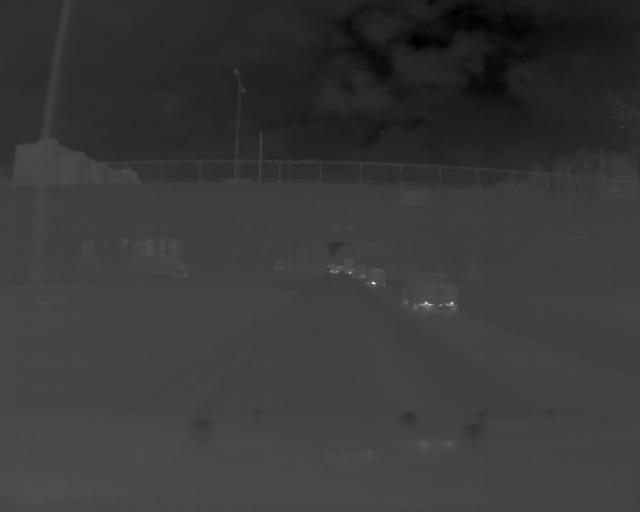car: (398, 268, 461, 315), (363, 265, 388, 289)
